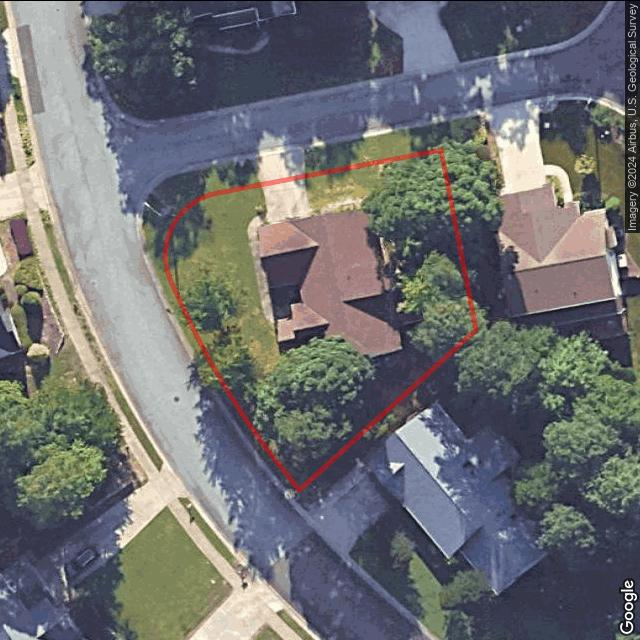Driveway: (259, 174, 312, 223)
Extra-Driveway: (251, 146, 305, 185)
Extra-Lawn: (141, 158, 302, 498), (302, 123, 441, 174)
House: (254, 202, 403, 377)
Lawn: (166, 149, 477, 488)
Other: (390, 264, 423, 327)
Sidewalk: (248, 209, 292, 321)
